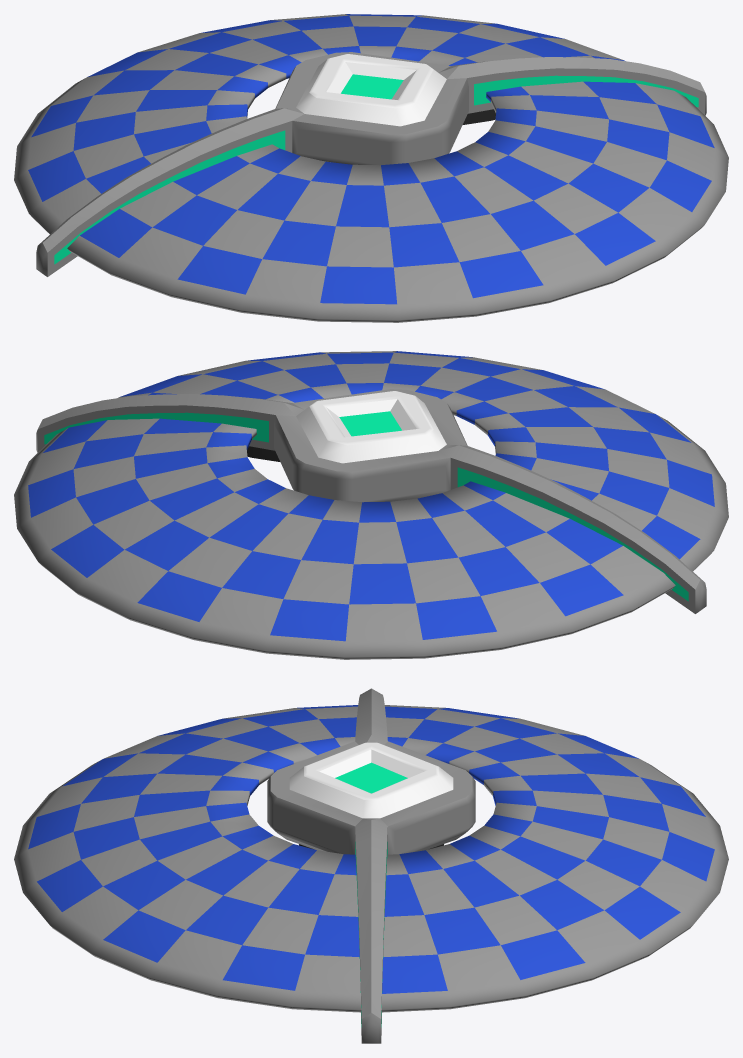
File: ForceShield.FBX
3 renders of one model, top to bottom at view 1: azimuth 30°, elevation 25°; view 2: azimuth 150°, elevation 25°; view 3: azimuth 270°, elevation 25°, orthographic.
Visible parts, largest first — view 1: Barrier, ForceShield; view 2: Barrier, ForceShield; view 3: Barrier, ForceShield.
Boxes of the visible parts, <box> form: Barrier: <box>14,14,728,322</box>; ForceShield: <box>36,52,706,276</box>; Barrier: <box>14,351,728,659</box>; ForceShield: <box>36,389,706,613</box>; Barrier: <box>14,705,728,1012</box>; ForceShield: <box>267,688,475,1043</box>.
Bounding box in the file's own units: 256 × 46.43 × 240.
